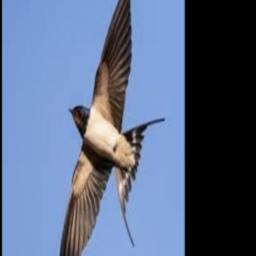Swallow: (58, 0, 165, 256)
